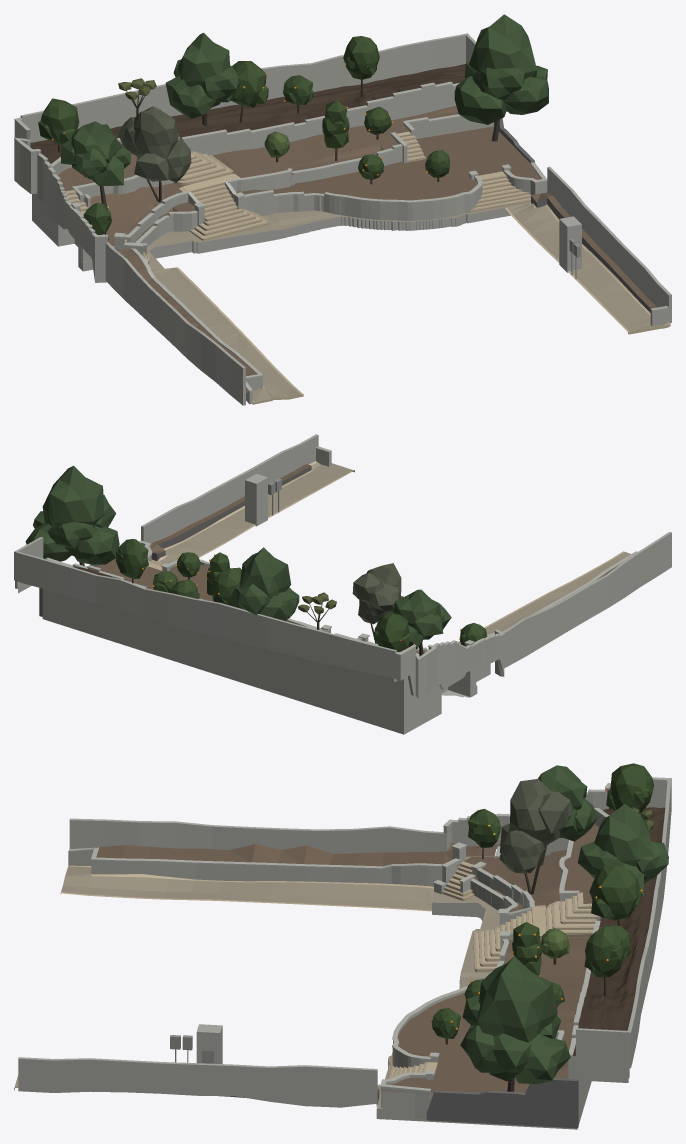
The model's file is reconstruction-05868dc390d1.glb.
3 views of the same model, one above another, from view 1: azimuth 30°, elevation 25°; view 2: azimuth 150°, elevation 25°; view 3: azimuth 270°, elevation 25° (orthographic). The views are drawn at different scales.
Parts seen in each view (by area): view 1: ground-terraces, wall-rear-boundary, planting-tree-14, wall-west-side-boundary, ground-side-west, wall-wa, ground-side-east, planting-tree-03, wall-we, planting-tree-01, wall-west-boundary-rear, wall-east-side-boundary (+25 smaller); view 2: ground-terraces, wall-rear-boundary, wall-west-side-boundary, planting-tree-14, wall-east-side-boundary, wall-west-boundary-rear, ground-side-east, planting-tree-03, planting-tree-01, planting-tree-02, ground-side-west, planter-fill-east-side (+8 smaller); view 3: ground-terraces, ground-side-west, wall-east-side-boundary, planting-tree-14, wall-west-side-boundary, wall-west-side-retaining, slot-filler-east, planting-tree-01, planting-tree-03, wall-rear-boundary, wall-rear-boundary-return-east, planting-tree-04 (+19 smaller).
Part boxes in pixels (<box>): ground-terraces: <box>30,64,547,271</box>; wall-rear-boundary: <box>20,33,468,142</box>; planting-tree-14: <box>454,14,548,141</box>; wall-west-side-boundary: <box>105,242,245,405</box>; ground-side-west: <box>116,248,303,404</box>; wall-wa: <box>82,165,546,261</box>; ground-side-east: <box>505,203,670,334</box>; planting-tree-03: <box>165,32,239,125</box>; wall-we: <box>183,84,456,155</box>; planting-tree-01: <box>118,106,191,202</box>; wall-west-boundary-rear: <box>14,120,107,282</box>; wall-east-side-boundary: <box>547,166,671,326</box>; ground-terraces: <box>18,558,490,734</box>; wall-rear-boundary: <box>14,550,396,678</box>; wall-west-side-boundary: <box>502,532,671,667</box>; planting-tree-14: <box>25,465,119,565</box>; wall-east-side-boundary: <box>141,434,331,543</box>; wall-west-boundary-rear: <box>395,632,504,698</box>; ground-side-east: <box>157,461,354,563</box>; planting-tree-03: <box>228,547,299,620</box>; planting-tree-01: <box>352,563,403,643</box>; planting-tree-02: <box>391,589,451,656</box>; ground-side-west: <box>459,551,630,644</box>; planter-fill-east-side: <box>151,464,311,560</box>; ground-terraces: <box>376,807,665,1129</box>; ground-side-west: <box>60,844,496,911</box>; wall-east-side-boundary: <box>18,1057,377,1107</box>; planting-tree-14: <box>460,956,570,1091</box>; wall-west-side-boundary: <box>69,818,446,853</box>; wall-west-side-retaining: <box>68,850,442,886</box>; slot-filler-east: <box>426,1078,578,1128</box>; planting-tree-01: <box>499,779,573,894</box>; planting-tree-03: <box>578,804,668,896</box>; wall-rear-boundary: <box>627,779,671,1068</box>; wall-rear-boundary-return-east: <box>576,1028,629,1078</box>; planting-tree-04: <box>589,866,642,925</box>.
Bounding box in the file's own units: 35.47 × 10.66 × 35.19.
